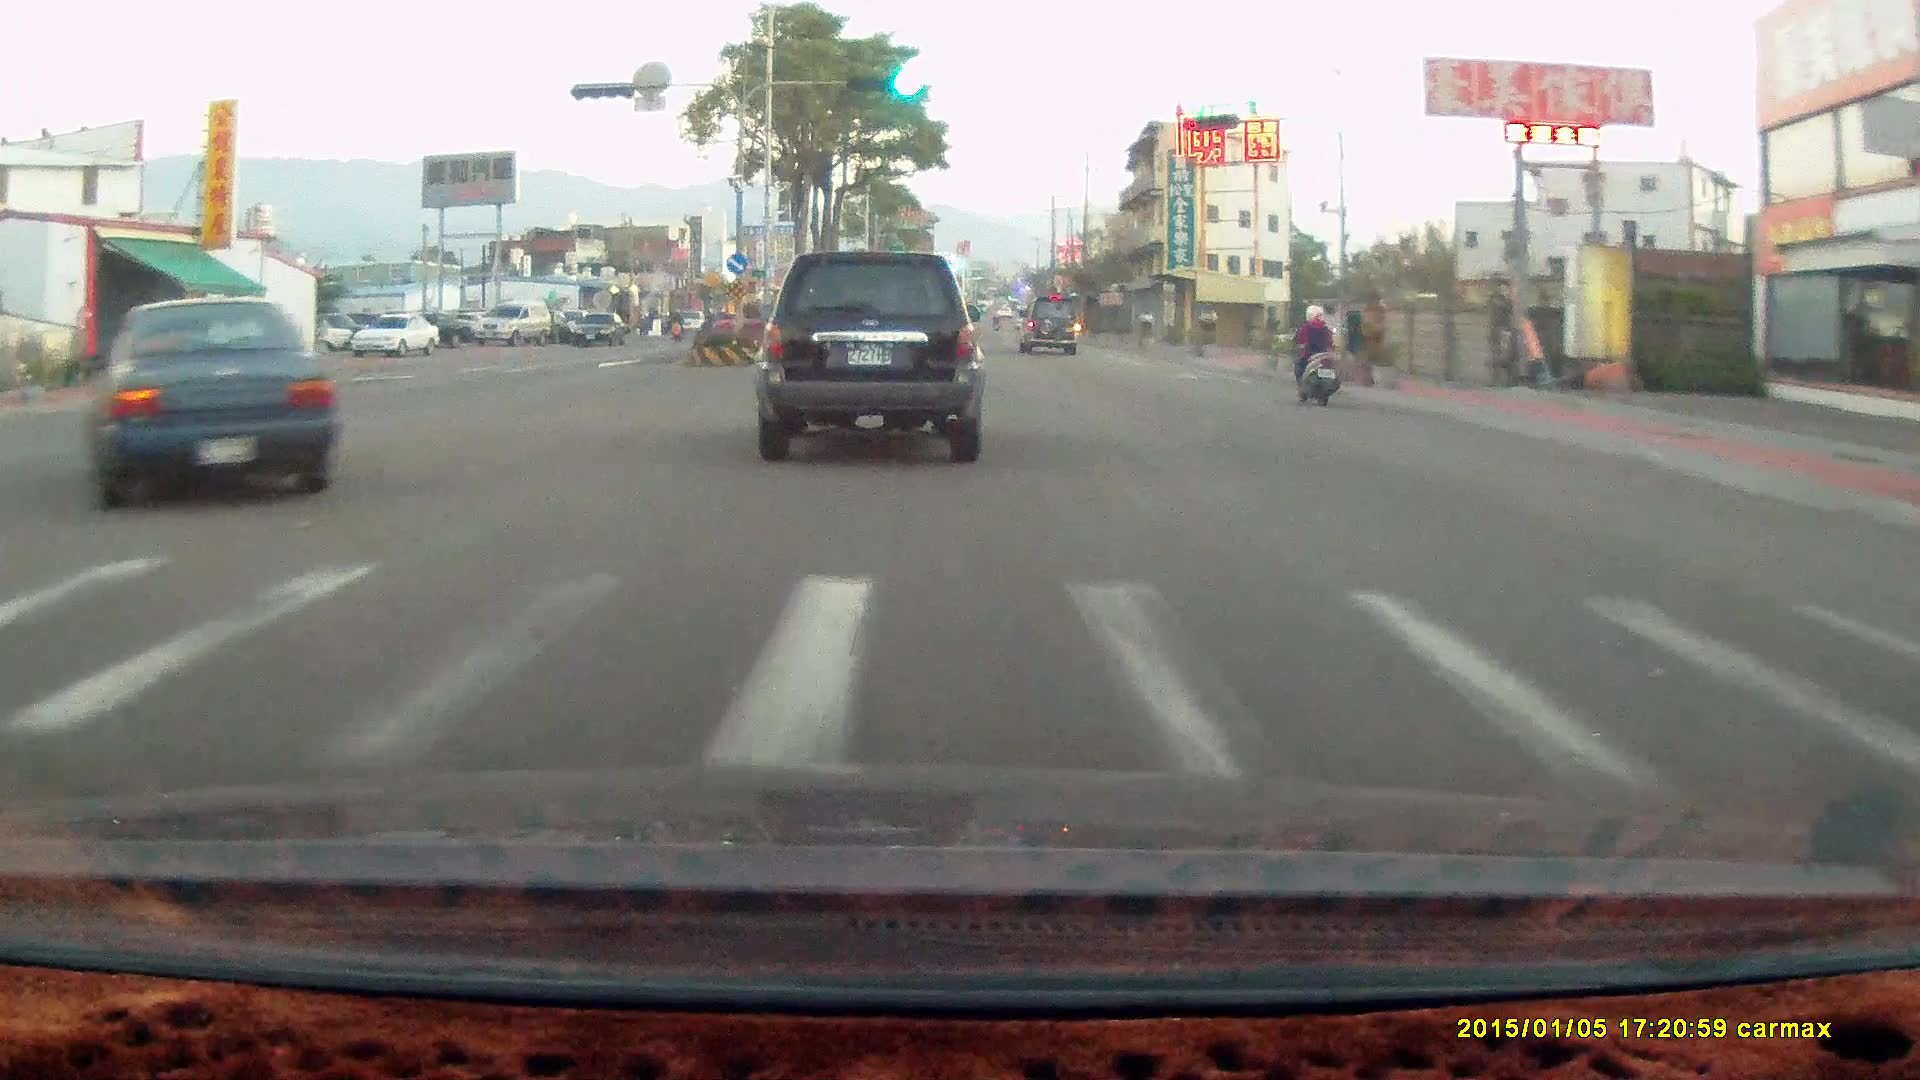rider: (1279, 296, 1353, 416), (1287, 302, 1341, 410)
vehicle: (75, 298, 335, 516), (80, 298, 336, 514), (752, 249, 984, 463), (761, 251, 992, 464), (469, 304, 552, 353), (351, 315, 438, 361), (1022, 296, 1082, 361), (350, 315, 437, 360), (469, 298, 551, 345), (1016, 296, 1079, 355), (391, 312, 471, 349), (570, 315, 627, 349), (569, 312, 625, 345)
